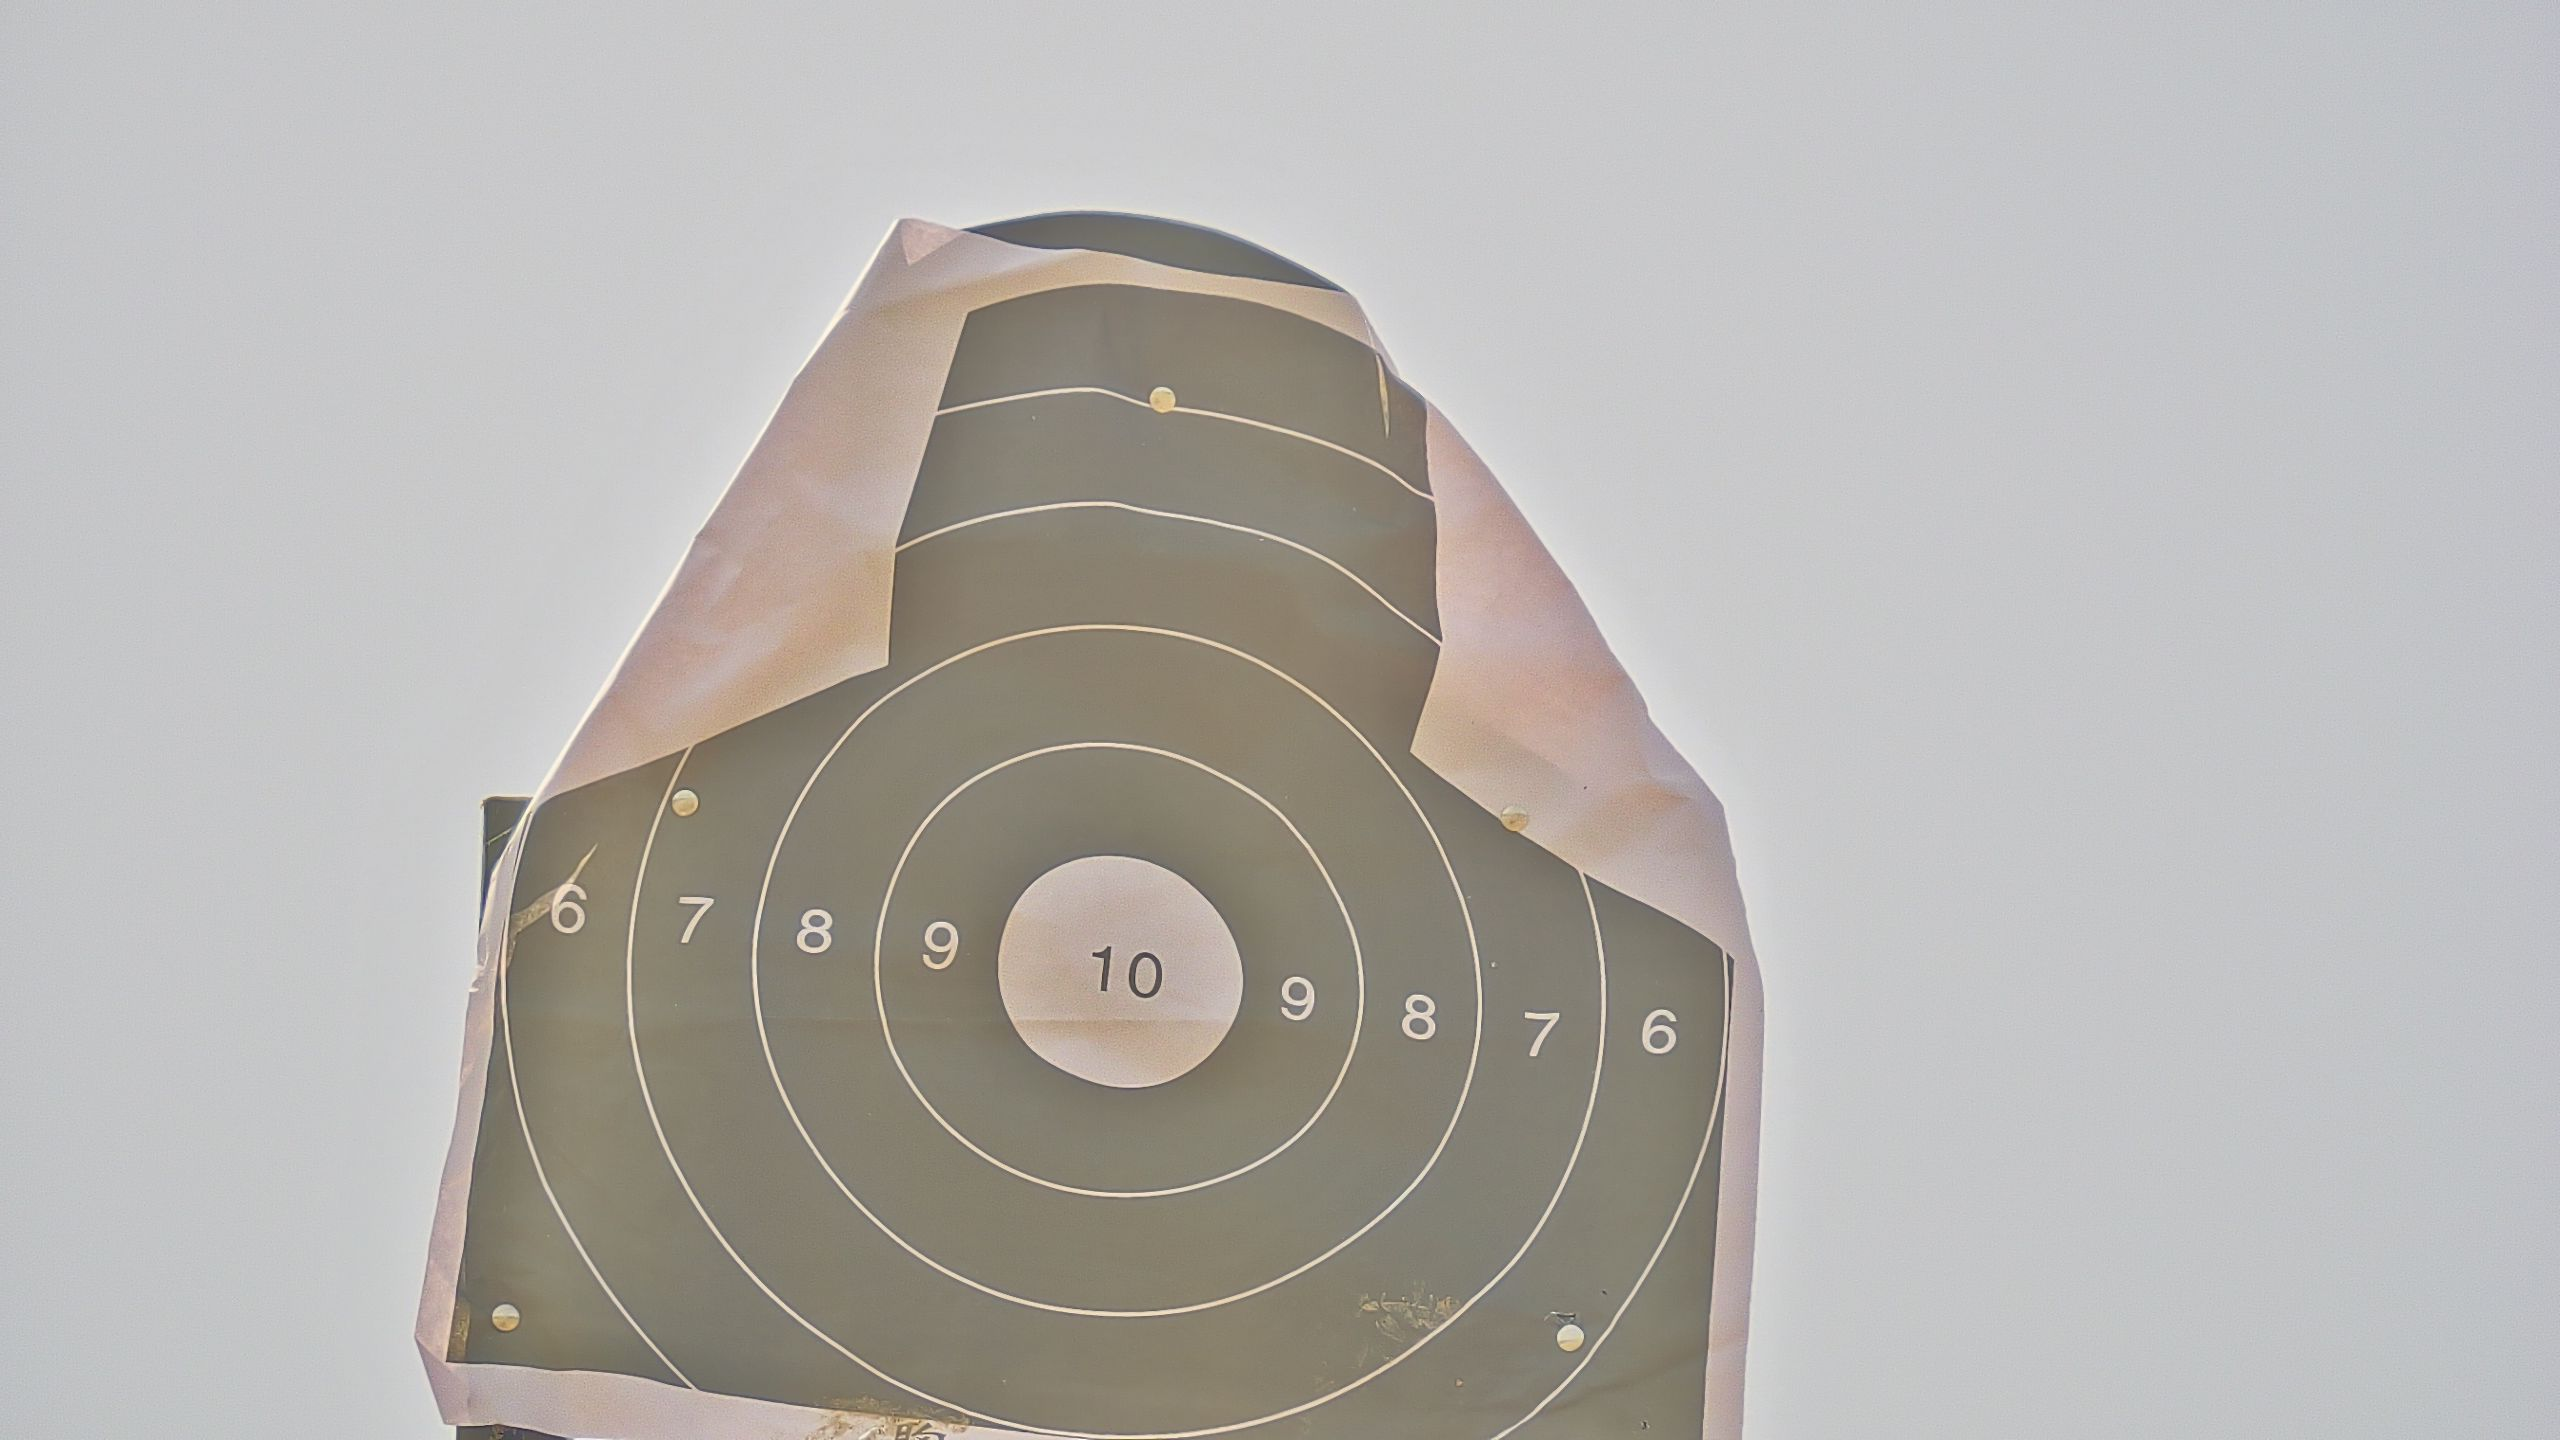kernel: (1116, 965, 1120, 972)
target: (441, 285, 1742, 1440)
ten: (993, 855, 1247, 1090)
